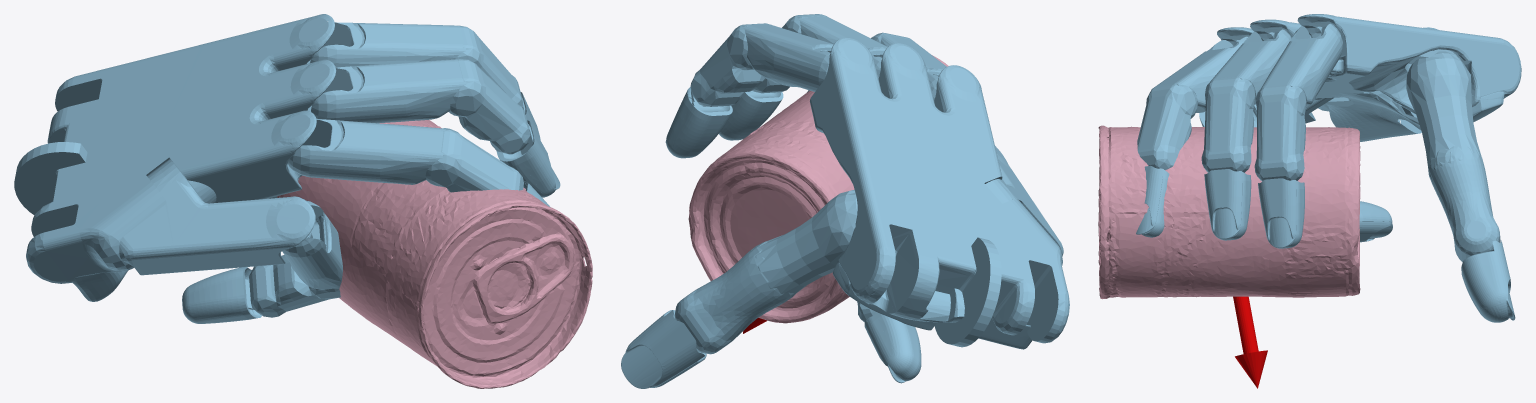
3 views of the same model, side by side, from view 1: azimuth 30°, elevation 25°; view 2: azimuth 150°, elevation 25°; view 3: azimuth 270°, elevation 25° (orthographic). The views are drawn at different scales.
Visible parts, largest first — view 1: world, tomato_soup_can.stl; view 2: world, tomato_soup_can.stl; view 3: world, tomato_soup_can.stl.
Boxes of the visible parts, x1,y1,x2,y2 form: world: [14, 14, 560, 323]; tomato_soup_can.stl: [277, 120, 592, 388]; world: [621, 14, 1069, 388]; tomato_soup_can.stl: [688, 55, 948, 323]; world: [1136, 14, 1521, 388]; tomato_soup_can.stl: [1098, 125, 1360, 299].
Bounding box in the file's own units: 0.1822 × 0.1359 × 0.1646.
